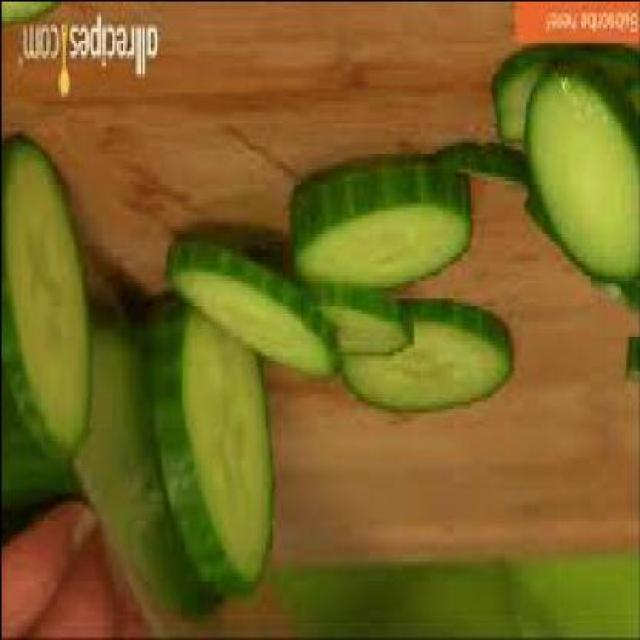BIODEGRADABLE: (149, 294, 274, 601), (2, 138, 92, 468), (524, 52, 638, 286), (168, 244, 341, 385), (292, 164, 474, 293), (341, 301, 514, 419), (494, 52, 638, 156), (314, 290, 414, 358), (437, 141, 529, 187)
METAL: (77, 323, 226, 639)
